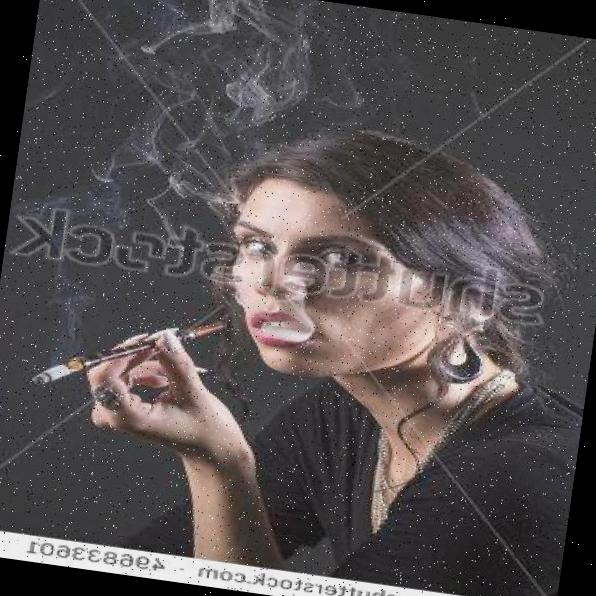smoke: (108, 0, 308, 142), (241, 289, 334, 353)
